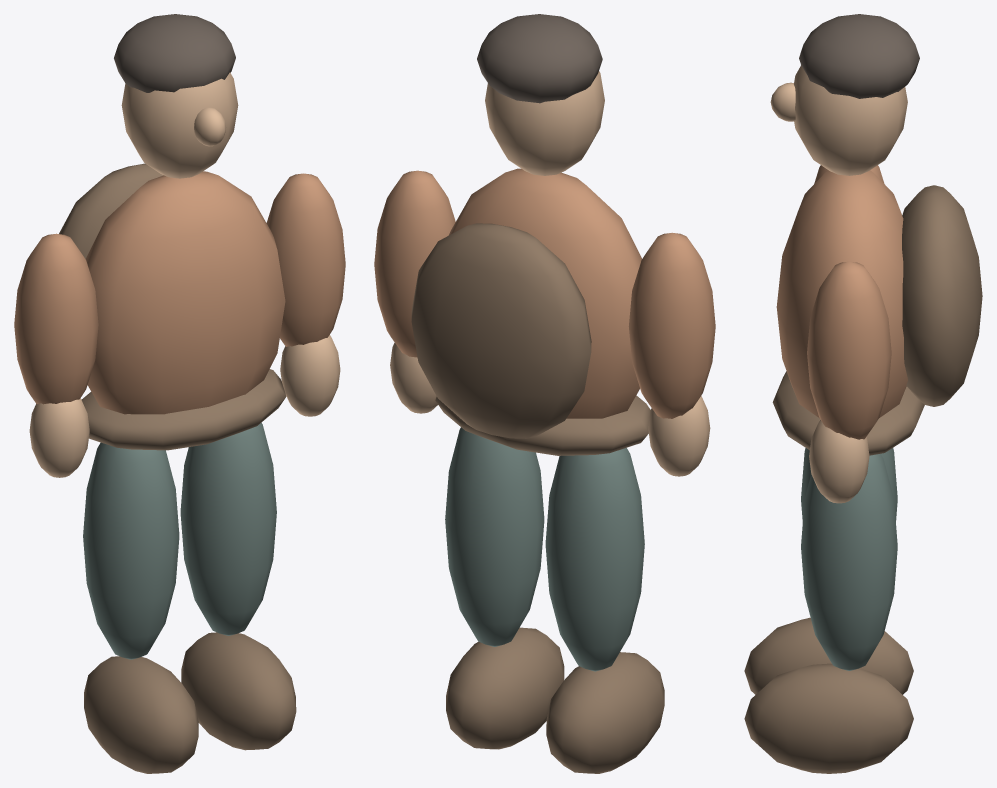
Rendered from kora.glb.
3 renders of one model, left to right at view 1: azimuth 30°, elevation 25°; view 2: azimuth 150°, elevation 25°; view 3: azimuth 270°, elevation 25°, orthographic. The views are drawn at different scales.
Visible parts, largest first — view 1: Torso, Trouser (×2), Sleeve (×2), Boot (×2), Head, Hand (×2), Hair, Belt, Pack, Nose; view 2: Trouser (×2), Pack, Boot (×2), Sleeve (×2), Torso, Hair, Head, Hand (×2), Belt; view 3: Boot (×2), Torso, Trouser (×2), Pack, Sleeve, Hair, Head, Belt, Hand, Nose.
Boxes of the visible parts, x1=… form: Torso: x1=85, y1=171, x2=285, y2=414; Trouser (×2): x1=83, y1=422, x2=276, y2=659; Sleeve (×2): x1=14, y1=173, x2=345, y2=404; Boot (×2): x1=84, y1=632, x2=296, y2=773; Head: x1=121, y1=72, x2=238, y2=178; Hand (×2): x1=29, y1=335, x2=340, y2=477; Hair: x1=114, y1=14, x2=235, y2=92; Belt: x1=81, y1=369, x2=286, y2=450; Pack: x1=59, y1=163, x2=163, y2=258; Nose: x1=194, y1=107, x2=226, y2=146; Trouser (×2): x1=445, y1=427, x2=644, y2=671; Pack: x1=411, y1=223, x2=591, y2=438; Boot (×2): x1=446, y1=627, x2=664, y2=773; Sleeve (×2): x1=374, y1=170, x2=715, y2=418; Torso: x1=448, y1=168, x2=641, y2=418; Hair: x1=477, y1=14, x2=602, y2=103; Head: x1=485, y1=71, x2=604, y2=175; Hand (×2): x1=390, y1=342, x2=710, y2=476; Belt: x1=435, y1=395, x2=650, y2=455; Boot (×2): x1=744, y1=617, x2=913, y2=773; Torso: x1=776, y1=170, x2=907, y2=418; Trouser (×2): x1=801, y1=448, x2=897, y2=670; Pack: x1=902, y1=185, x2=982, y2=406; Sleeve: x1=807, y1=261, x2=891, y2=439; Hair: x1=799, y1=14, x2=919, y2=98; Head: x1=794, y1=65, x2=907, y2=175; Belt: x1=772, y1=371, x2=924, y2=455; Hand: x1=809, y1=420, x2=869, y2=503; Nose: x1=770, y1=82, x2=795, y2=121.
Bounding box in the file's own units: 0.92 × 1.98 × 0.59.
